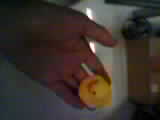duck: (65, 53, 122, 109)
